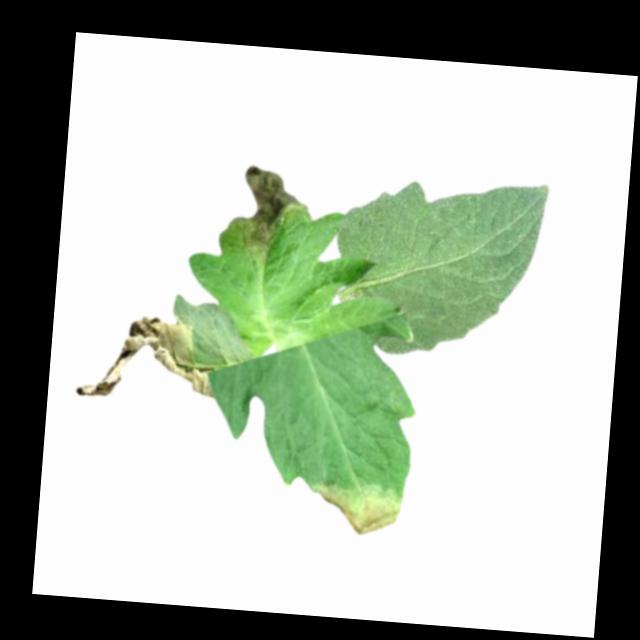Late_blight: (74, 308, 224, 406), (227, 162, 316, 264), (309, 475, 410, 538)
healthy: (326, 167, 552, 366)
